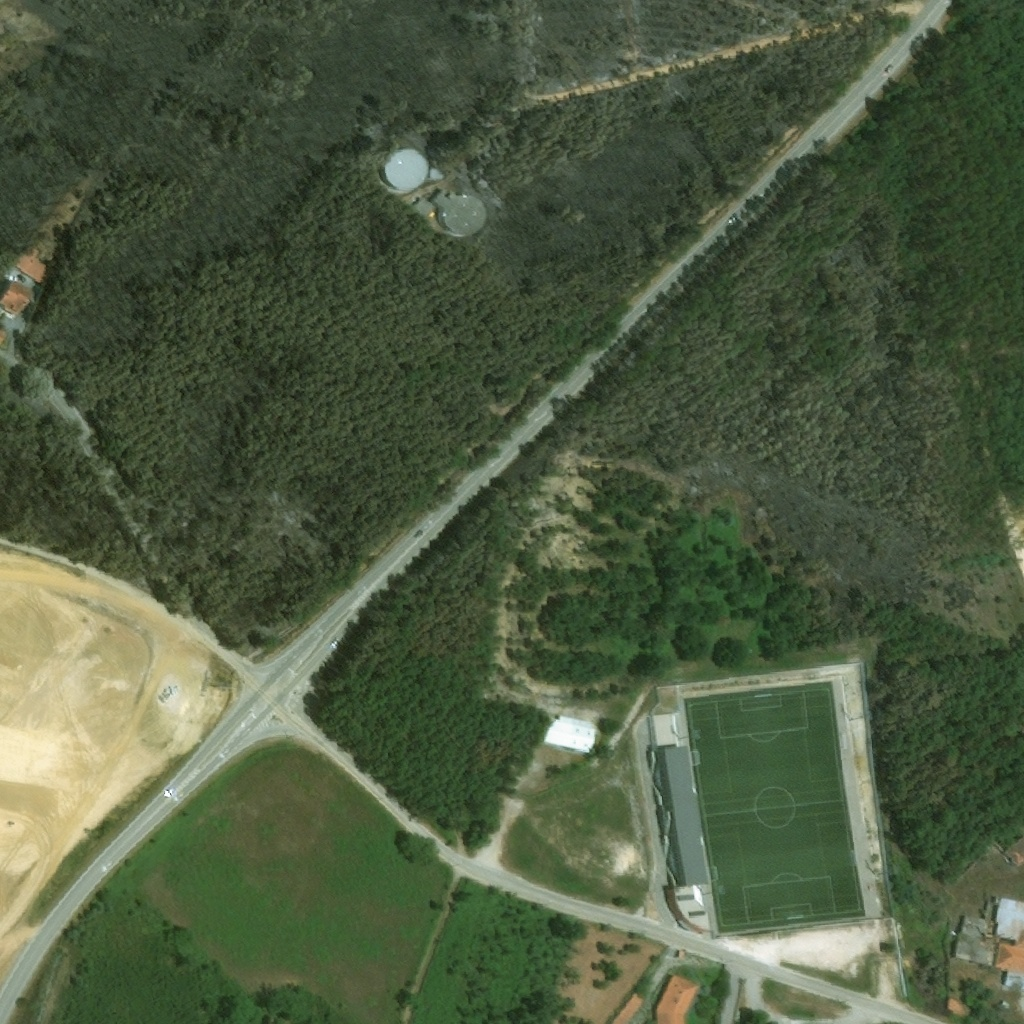0 no-damage: (649, 744, 717, 938), (379, 145, 444, 192), (994, 897, 1023, 991), (428, 188, 484, 236), (541, 712, 598, 754), (654, 974, 701, 1023), (955, 916, 988, 965), (0, 280, 35, 320), (609, 992, 644, 1023), (13, 250, 46, 281), (648, 712, 678, 744), (413, 198, 432, 216), (0, 327, 9, 344)
4 un-classified: (1004, 835, 1023, 867)
